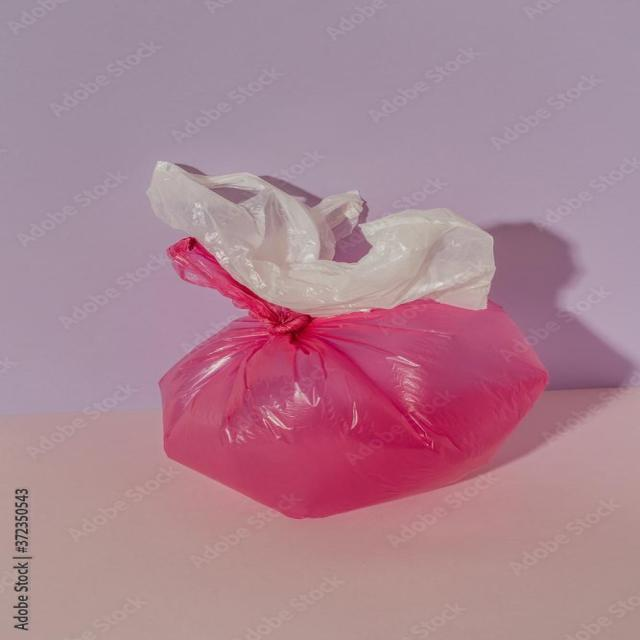Plastic_Bag: (150, 233, 548, 520)
